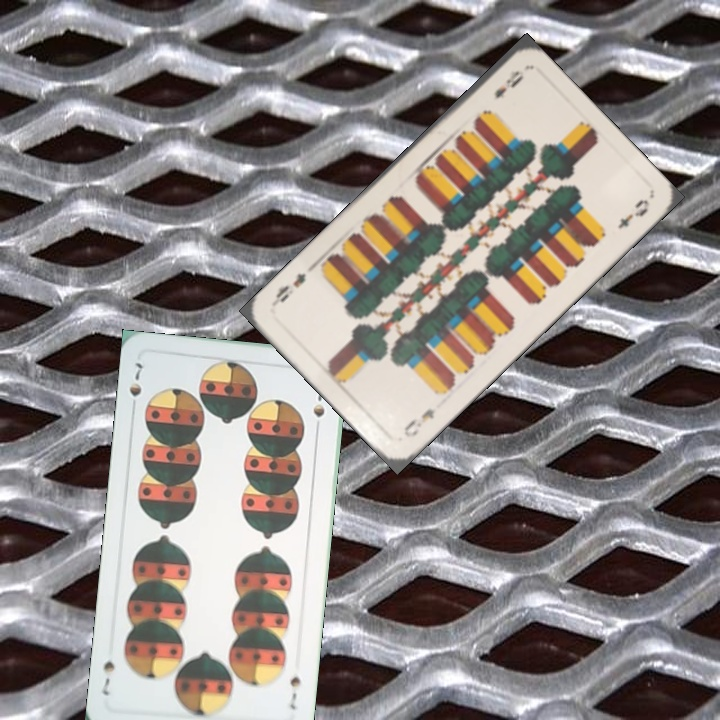E9: (400, 404, 437, 440), (490, 66, 526, 102)
S7: (125, 359, 146, 415), (285, 673, 303, 713)
